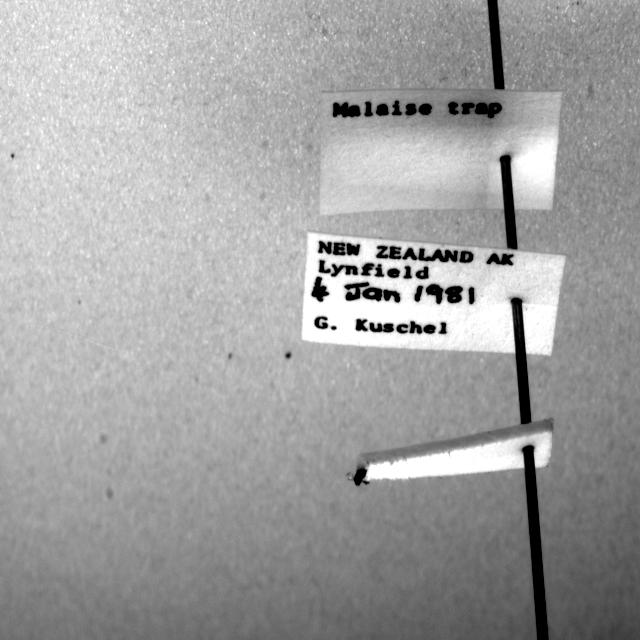mixed_label: (304, 228, 567, 352)
typed_label: (320, 88, 562, 214)
